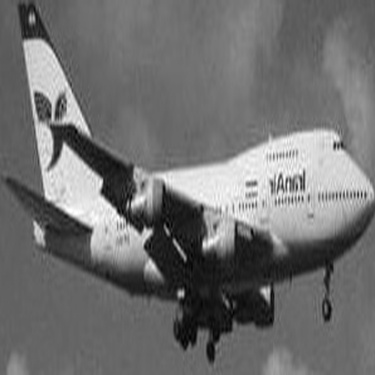airplane: (3, 1, 369, 369)
